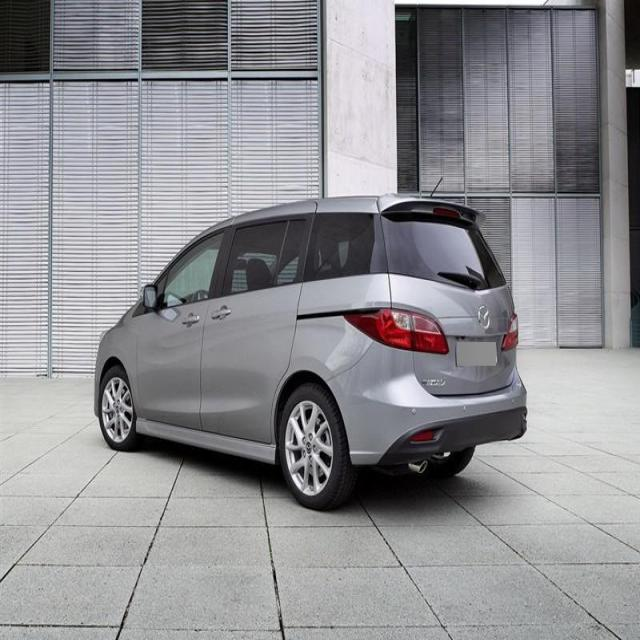back_glass: (378, 209, 508, 292)
back_left_side_light: (342, 304, 451, 356)
back_right_side_light: (501, 312, 520, 352)
door: (202, 203, 318, 438)
front_left_side_door: (134, 216, 233, 457)
front_left_side_mirror: (138, 282, 161, 312)
rear_bumper: (327, 340, 527, 468)
wheel: (278, 383, 347, 511), (99, 367, 137, 450)
